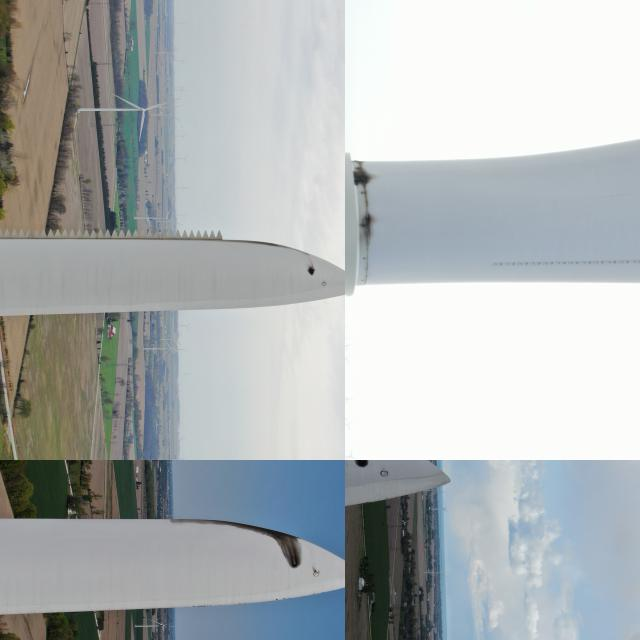damage: (261, 521, 310, 573), (350, 208, 390, 242), (345, 163, 390, 190), (345, 460, 374, 470), (302, 264, 318, 276)
